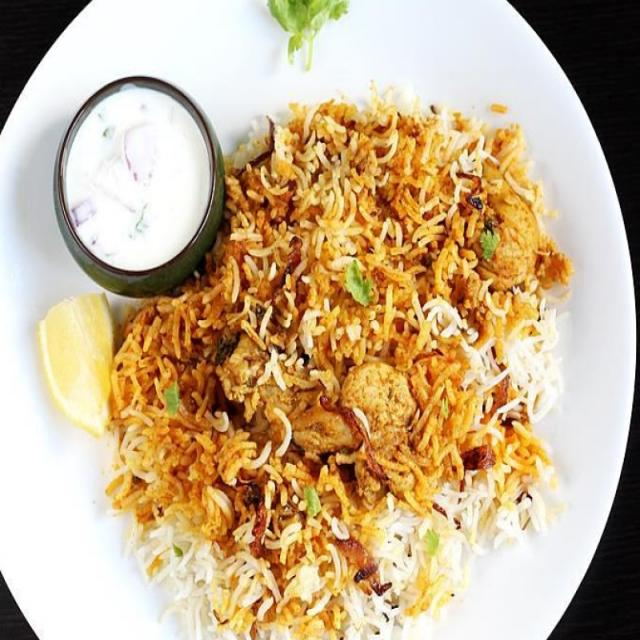Biryani: (108, 85, 566, 636)
